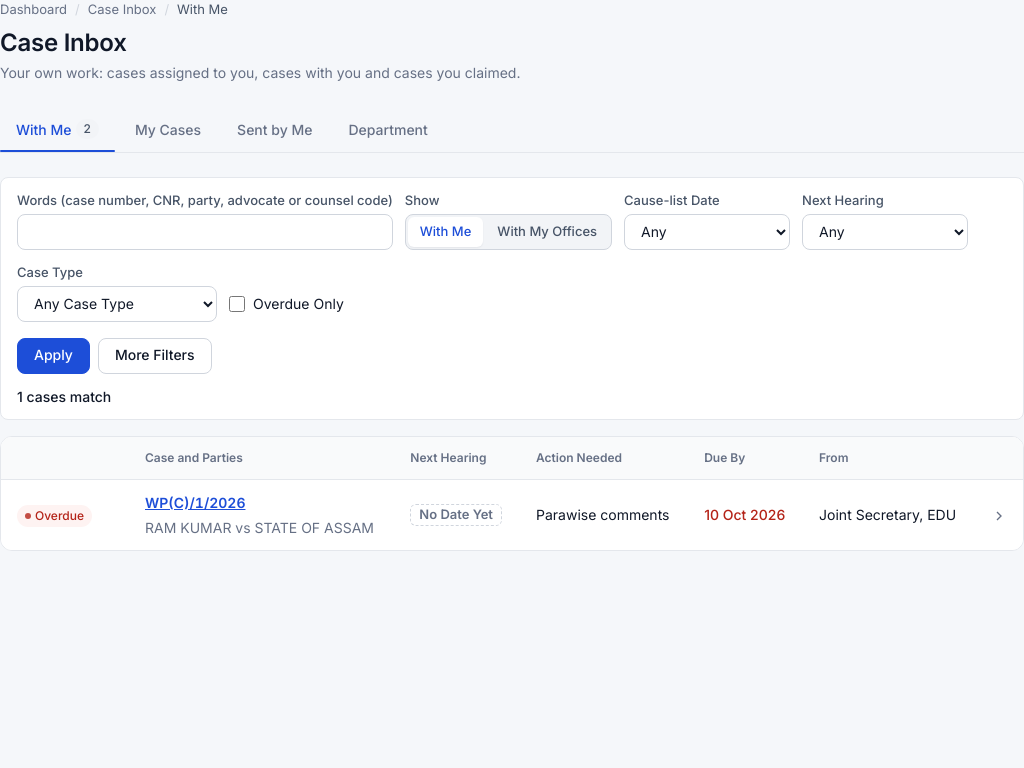
Scenario: With Me (decision 2) › a row opens the side panel with the card's remark
Click the row named "Details of WP(C)/1/2026" at (55, 516), box [1,480,1023,550]
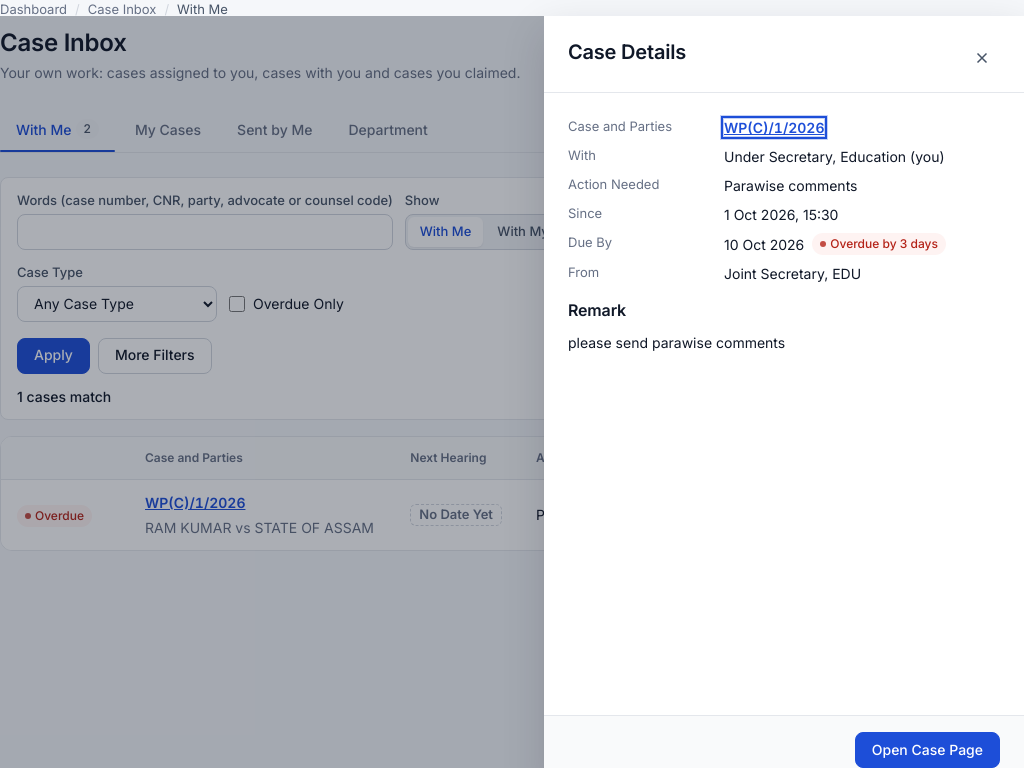
expect the text "please send parawise comments" is shown: met, box [568,334,785,351]
